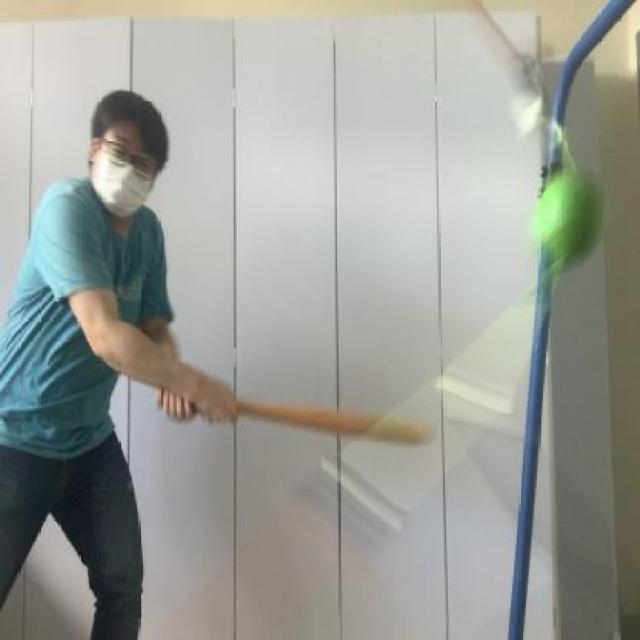baseball: (532, 154, 606, 286)
